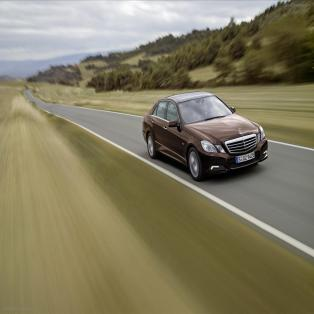Auto: (140, 90, 270, 184)
